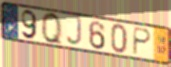0: (110, 22, 128, 55)
6: (88, 20, 106, 51)
9: (21, 9, 39, 41)
J: (66, 17, 84, 48)
P: (131, 26, 153, 57)
Q: (40, 11, 64, 48)
